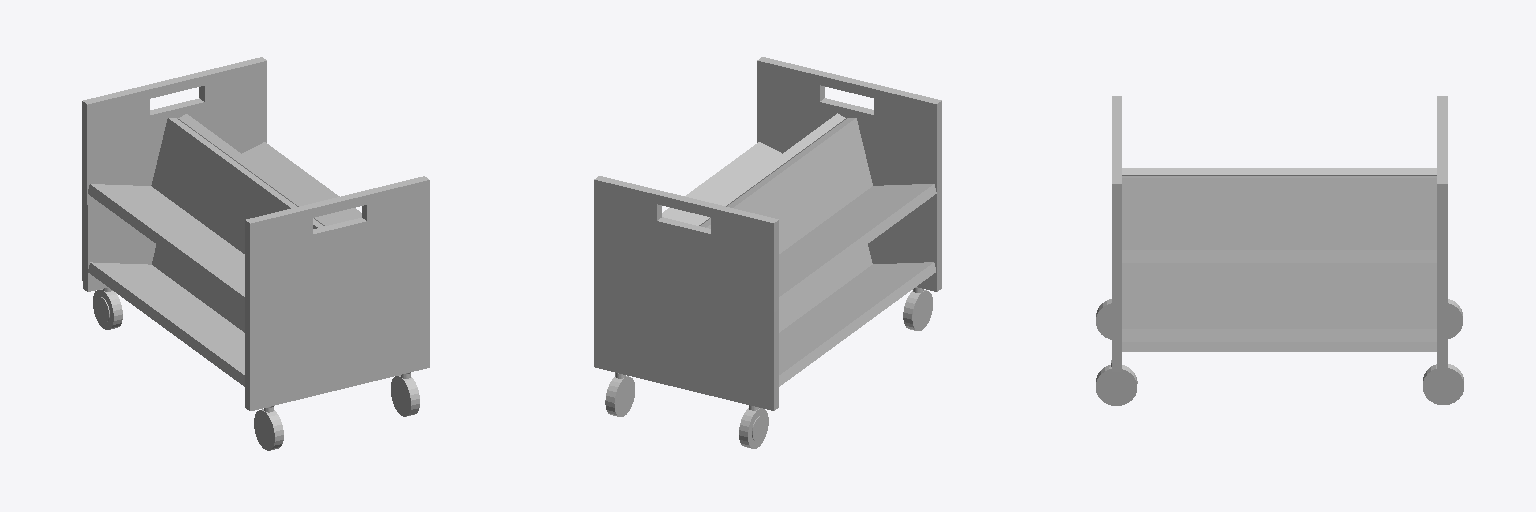
The model's file is medicalCart2.obj.
3 views of the same model, side by side, from view 1: azimuth 30°, elevation 25°; view 2: azimuth 150°, elevation 25°; view 3: azimuth 270°, elevation 25° (orthographic).
Visible parts, largest first — view 1: Mesh11 Model, Mesh6 Group2 Model, Mesh8 Model, Mesh5 Group2 Model, Mesh4 Group2 Model, Mesh12 Model, Mesh10 Model; view 2: Mesh8 Model, Mesh11 Model, Mesh6 Group2 Model, Mesh5 Group2 Model, Mesh4 Group2 Model, Mesh14 Model, Mesh12 Model; view 3: Mesh4 Group2 Model, Mesh7 Group2 Model, Mesh8 Model, Mesh11 Model, Mesh6 Group2 Model, Mesh10 Model, Mesh14 Model.
Part boxes in pixels (left/top/right/bottom): Mesh11 Model: left=245, top=176, right=429, bottom=410; Mesh6 Group2 Model: left=88, top=118, right=324, bottom=308; Mesh8 Model: left=82, top=57, right=266, bottom=291; Mesh5 Group2 Model: left=88, top=227, right=244, bottom=386; Mesh4 Group2 Model: left=178, top=114, right=361, bottom=225; Mesh12 Model: left=254, top=409, right=283, bottom=450; Mesh10 Model: left=391, top=375, right=419, bottom=416; Mesh8 Model: left=594, top=176, right=778, bottom=410; Mesh11 Model: left=757, top=57, right=941, bottom=291; Mesh6 Group2 Model: left=701, top=118, right=936, bottom=308; Mesh5 Group2 Model: left=779, top=244, right=935, bottom=386; Mesh4 Group2 Model: left=662, top=113, right=845, bottom=225; Mesh14 Model: left=605, top=376, right=634, bottom=416; Mesh12 Model: left=903, top=290, right=932, bottom=330; Mesh4 Group2 Model: left=1122, top=176, right=1436, bottom=273; Mesh7 Group2 Model: left=1122, top=274, right=1436, bottom=351; Mesh8 Model: left=1437, top=96, right=1447, bottom=371; Mesh11 Model: left=1112, top=96, right=1121, bottom=371; Mesh6 Group2 Model: left=1122, top=168, right=1436, bottom=175; Mesh10 Model: left=1096, top=365, right=1137, bottom=405; Mesh14 Model: left=1423, top=364, right=1463, bottom=404.
Size of the model in its own units: 19.8 by 24.36 by 35.14.